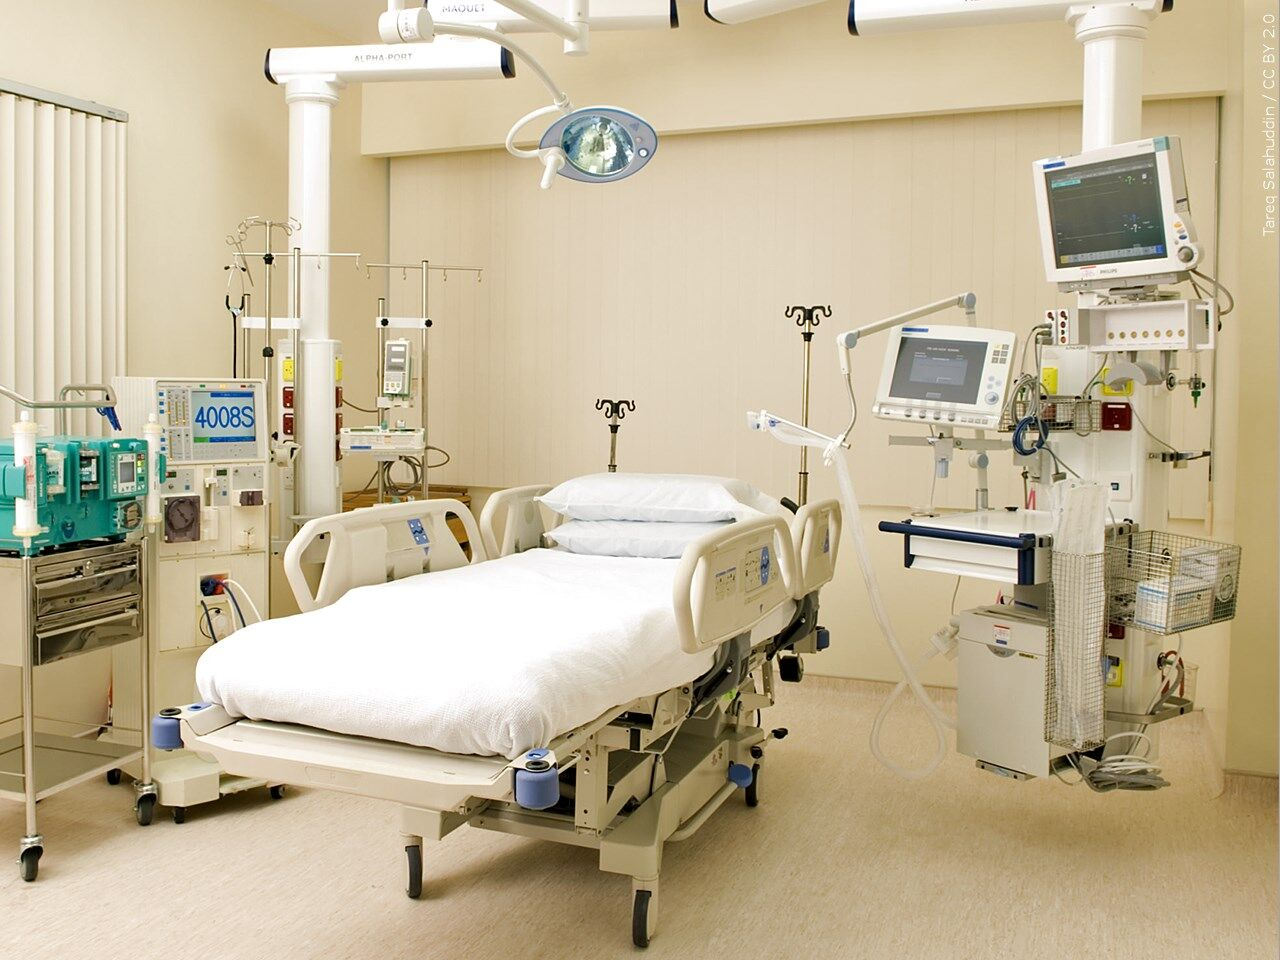bedrail: (279, 498, 488, 611), (672, 516, 795, 654), (479, 484, 561, 556), (789, 497, 843, 600)
bedside_monitor: (1028, 136, 1195, 281), (873, 324, 1026, 431)
breathing_tube: (744, 407, 956, 800)
handle: (31, 559, 153, 589), (28, 610, 150, 640)
hospital_bed: (150, 473, 842, 947)
iv_pole: (362, 255, 490, 494), (237, 248, 367, 437), (228, 212, 298, 438), (782, 302, 836, 504), (592, 396, 637, 473)
surgical_light: (539, 103, 659, 183)
syringe_pump: (336, 423, 426, 458)
utility_cart: (1, 537, 156, 882)
